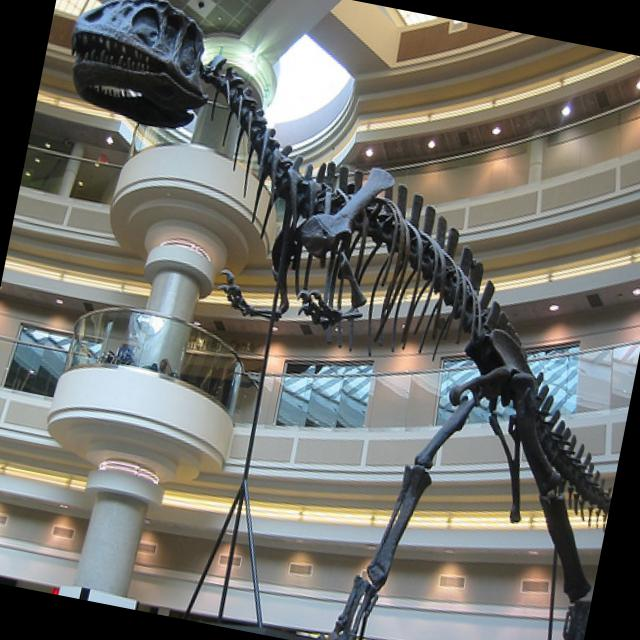2001: (274, 359, 372, 427)
ceiling beam: (48, 0, 640, 170)
skeleton: (70, 0, 608, 640)
wall clock: (0, 47, 640, 640)
